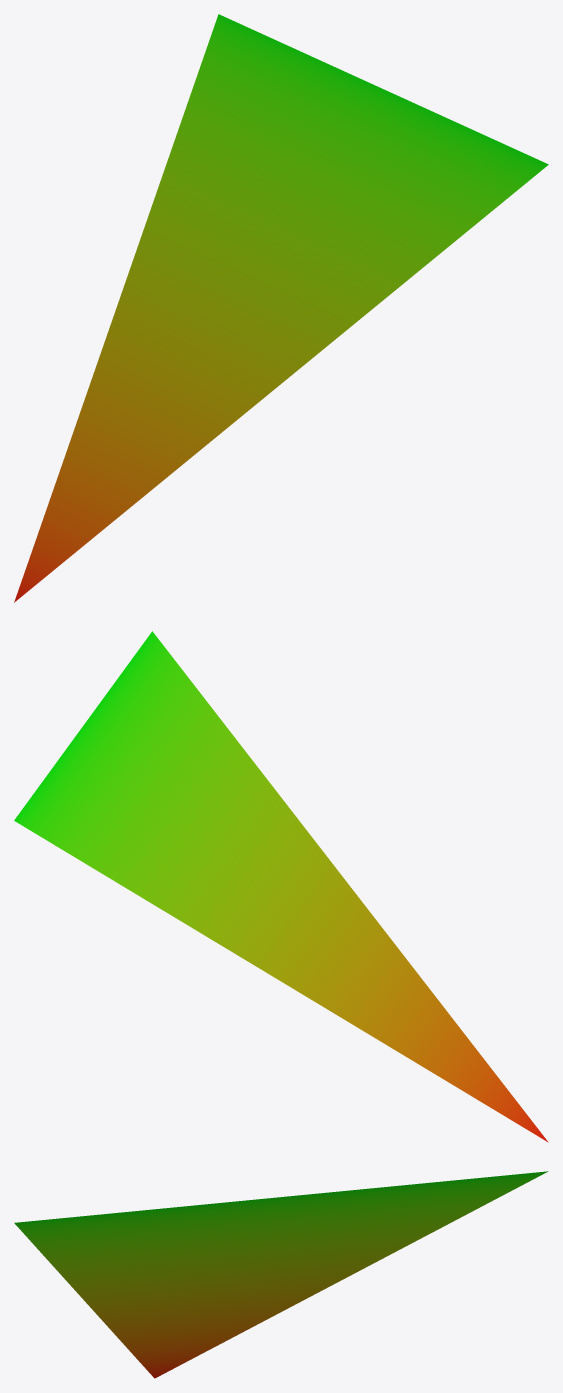
The model's file is border_patch_1.obj.
The picture shows the model from 3 angles, top to bottom: view 1: azimuth 30°, elevation 25°; view 2: azimuth 150°, elevation 25°; view 3: azimuth 270°, elevation 25°; orthographic projection. The views are drawn at different scales.
Size of the model in its own units: 0.9272 by 0.691 by 0.8046.
